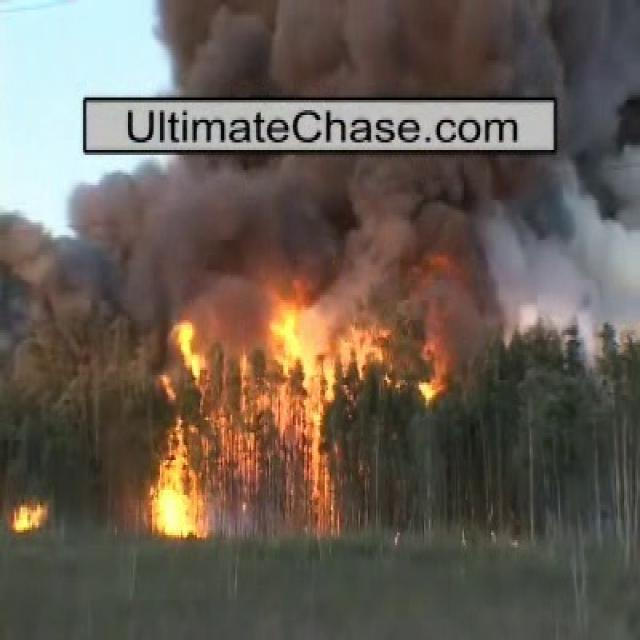Fire: (159, 286, 453, 416), (148, 449, 210, 542), (4, 496, 62, 532)
Smoke: (90, 159, 640, 273), (140, 5, 640, 91)
